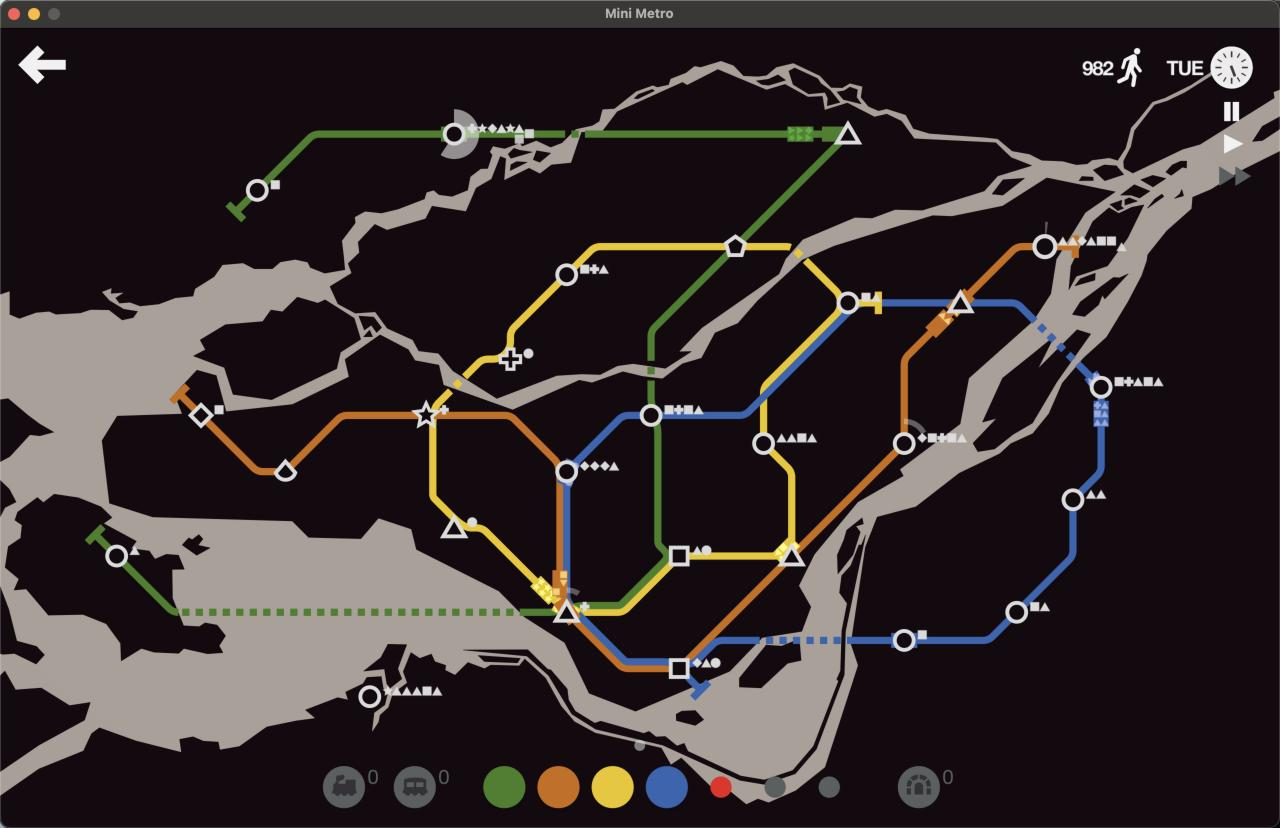CIRCLE: (1032, 233, 1058, 260), (357, 684, 383, 709), (441, 122, 467, 147), (892, 628, 918, 653), (1004, 600, 1029, 625), (555, 459, 579, 485), (245, 178, 270, 202), (892, 431, 917, 455), (1089, 375, 1113, 400), (105, 544, 129, 568), (555, 262, 579, 286), (752, 431, 776, 455), (639, 403, 663, 427), (1061, 488, 1085, 512), (836, 291, 859, 314)
CROSS: (499, 347, 523, 371)
GEM: (188, 402, 214, 427)
PENTAGON: (723, 234, 747, 258)
SQUARE: (668, 545, 690, 567), (668, 658, 689, 679)
STAR: (412, 399, 448, 428)
TRIANGLE: (945, 288, 975, 316), (833, 120, 862, 146), (778, 542, 806, 568), (553, 597, 581, 623), (440, 516, 468, 539)
WEDGE: (274, 459, 298, 483)
